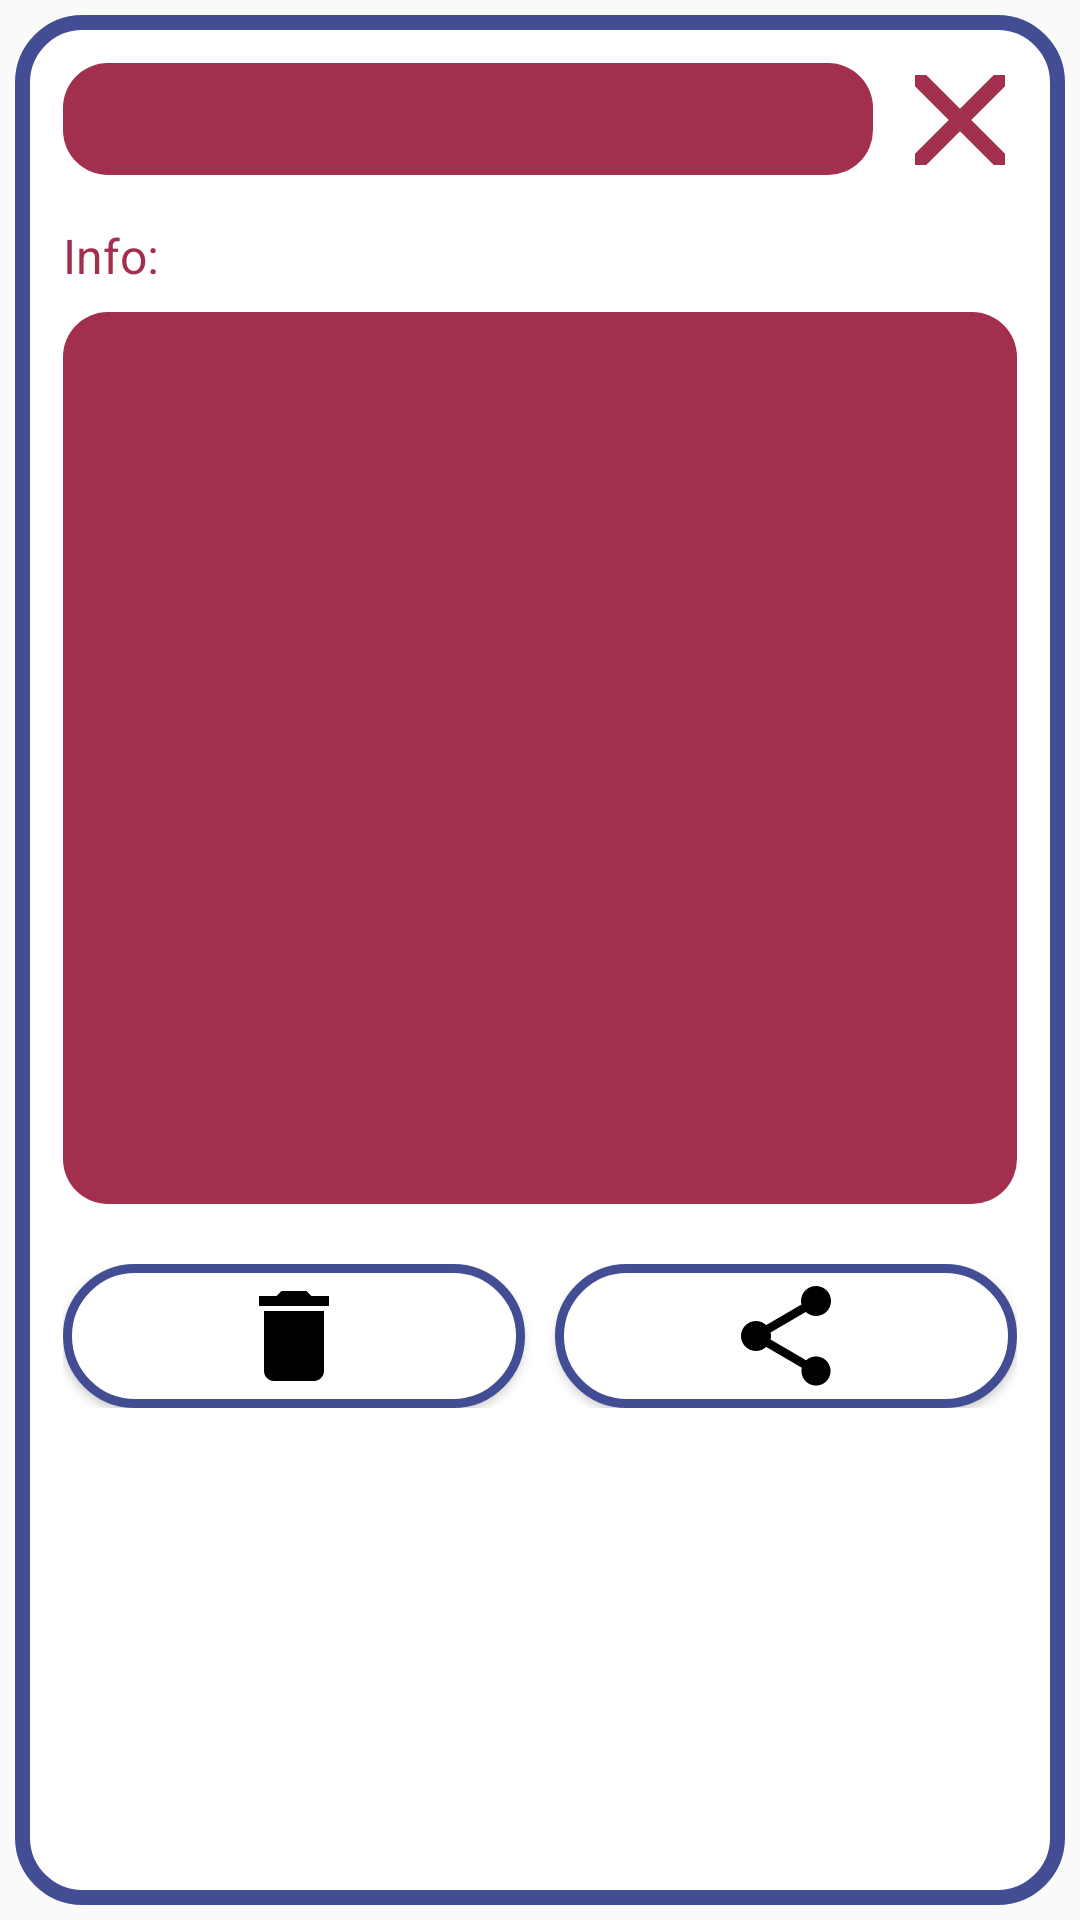

Locate icon controls on the screen. Image size 1080*1920, boxes as rect(x1, y1, x2, y2).
close: rect(915, 75, 1005, 165)
